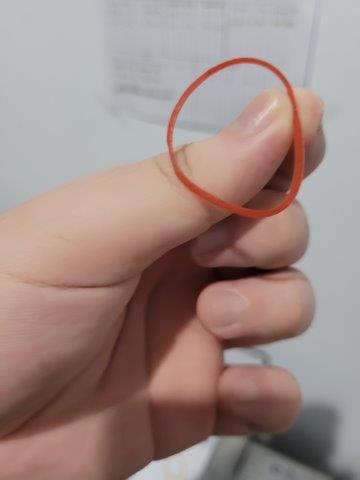karet: (167, 56, 306, 220)
